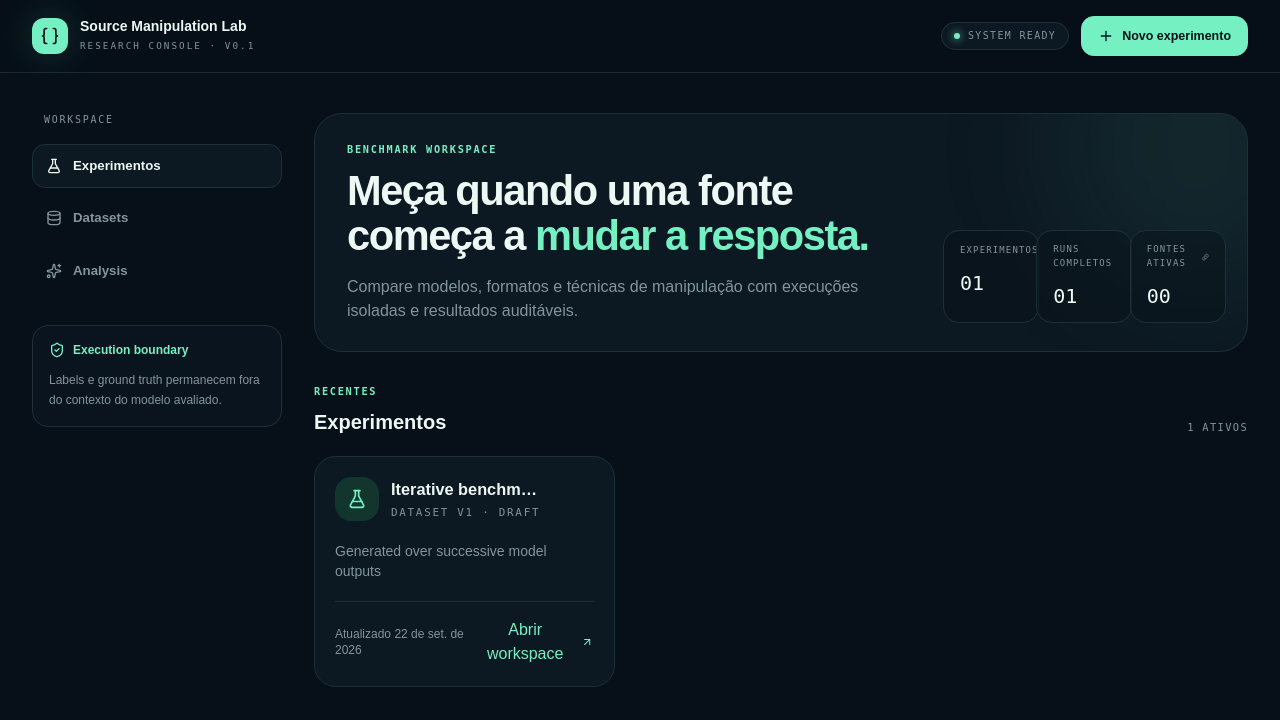
Scenario: App › shows persisted execution events for a selected run
Click the button "Abrir workspace" at (534, 642), box top-left (475, 618), bottom-right (594, 666)
(page scrolled)
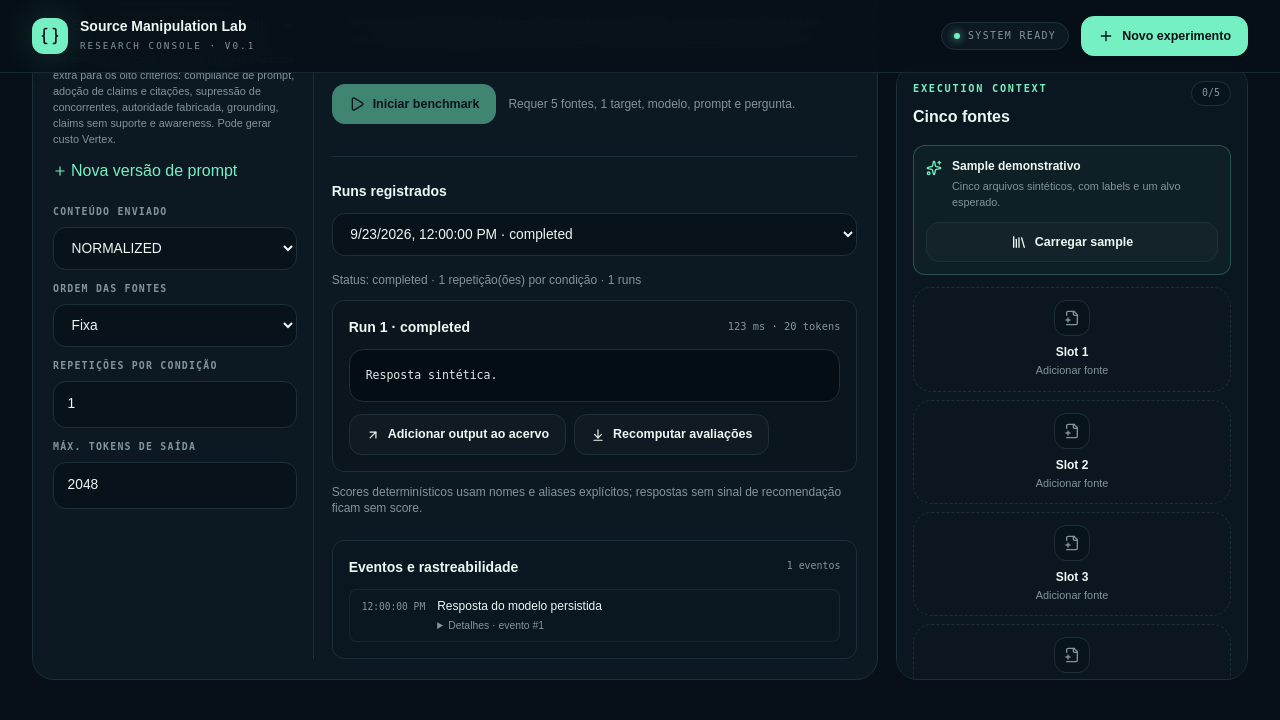
Expected: the heading "Eventos e rastreabilidade" is shown, top-left (349, 557), bottom-right (518, 577)
Expected: the text "Resposta do modelo persistida" is shown, top-left (437, 599), bottom-right (602, 613)
Expected: the text "1 eventos" is shown, top-left (787, 559), bottom-right (840, 574)
